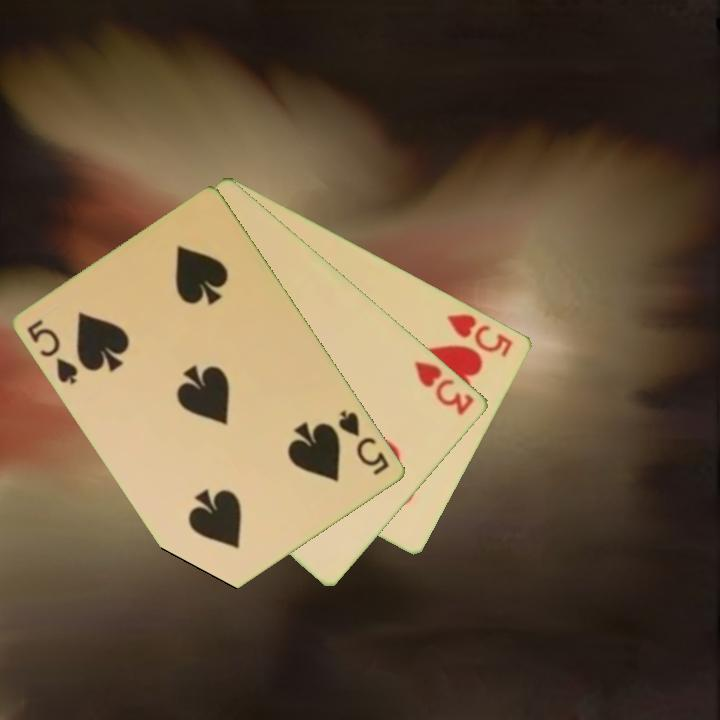3h: (411, 357, 478, 419)
5h: (443, 309, 517, 360)
5s: (335, 406, 393, 479), (24, 316, 82, 388)
